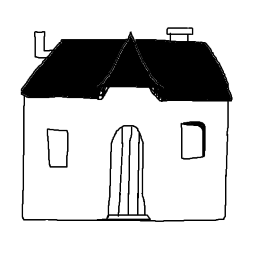chimney: (16, 26, 56, 59), (162, 22, 197, 47)
door: (89, 119, 161, 225)
open_window: (37, 121, 78, 176), (176, 118, 210, 167)
shaded_roof: (12, 25, 241, 111)
wall: (17, 96, 236, 225)
